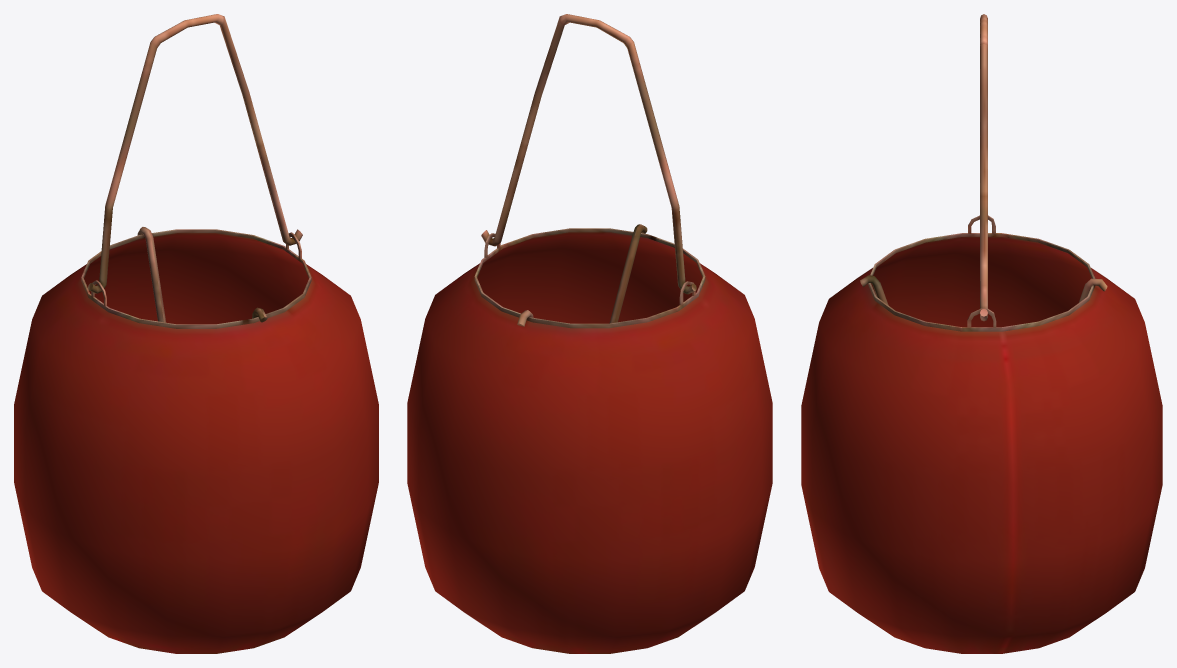
Rendered from qh_lanterne.e58e11a60c.glb.
3 renders of one model, left to right at view 1: azimuth 30°, elevation 25°; view 2: azimuth 150°, elevation 25°; view 3: azimuth 270°, elevation 25°, orthographic.
Parts seen in each view (by area): view 1: lanterne; view 2: lanterne; view 3: lanterne.
Part boxes in pixels (<box>): lanterne: <box>14,14,378,653</box>; lanterne: <box>407,14,772,653</box>; lanterne: <box>801,14,1162,653</box>.
Size of the model in its own units: 0.5543 by 1 by 0.5628.
Materials: 1 (1 with a texture image).
